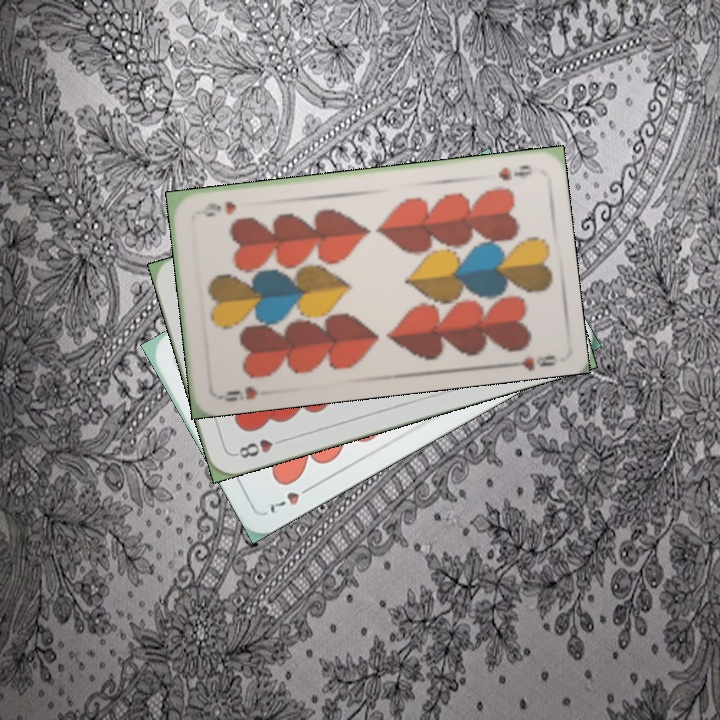H7: (265, 480, 317, 517)
H8: (231, 434, 289, 461)
H9: (214, 381, 261, 404), (494, 161, 535, 184)
